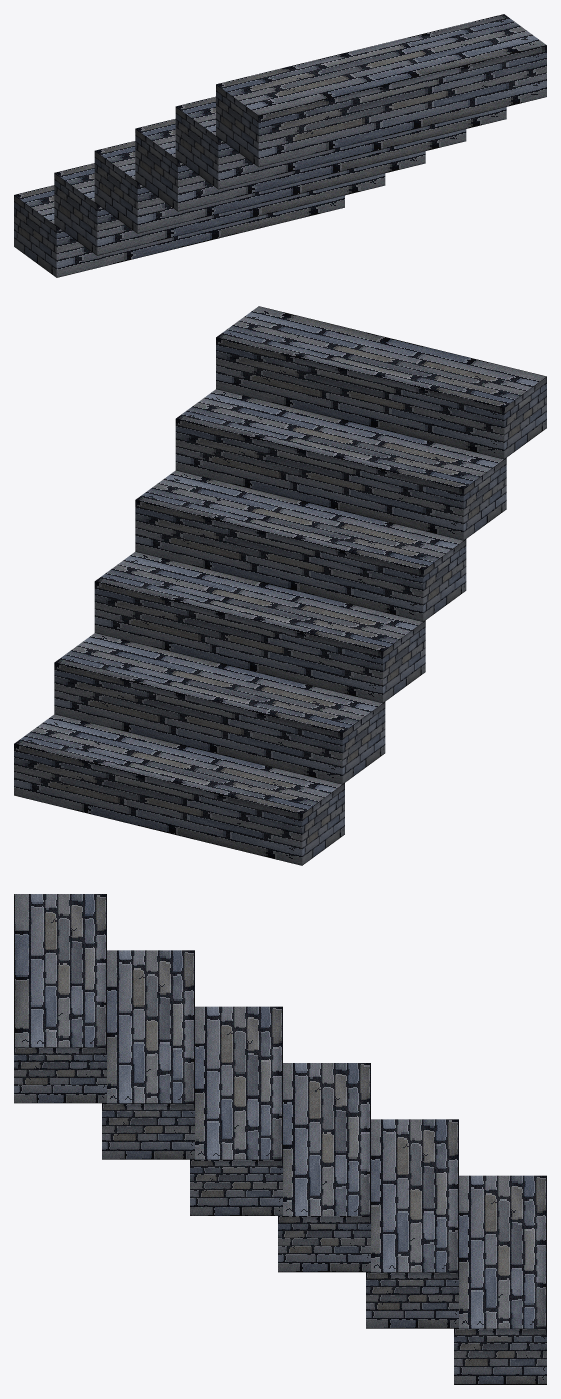
The model's file is prisao_escada_descida.glb.
3 renders of one model, top to bottom at view 1: azimuth 30°, elevation 25°; view 2: azimuth 150°, elevation 25°; view 3: azimuth 270°, elevation 25°, orthographic. The views are drawn at different scales.
Visible parts, largest first — view 1: prisao_escada_descida; view 2: prisao_escada_descida; view 3: prisao_escada_descida.
Part boxes in pixels (bbox=[...]): prisao_escada_descida: bbox=[14, 14, 546, 277]; prisao_escada_descida: bbox=[14, 306, 546, 865]; prisao_escada_descida: bbox=[14, 894, 546, 1384].
Bounding box in the file's own units: 1.4 × 1.44 × 2.06.
1 material, 1 textured.
